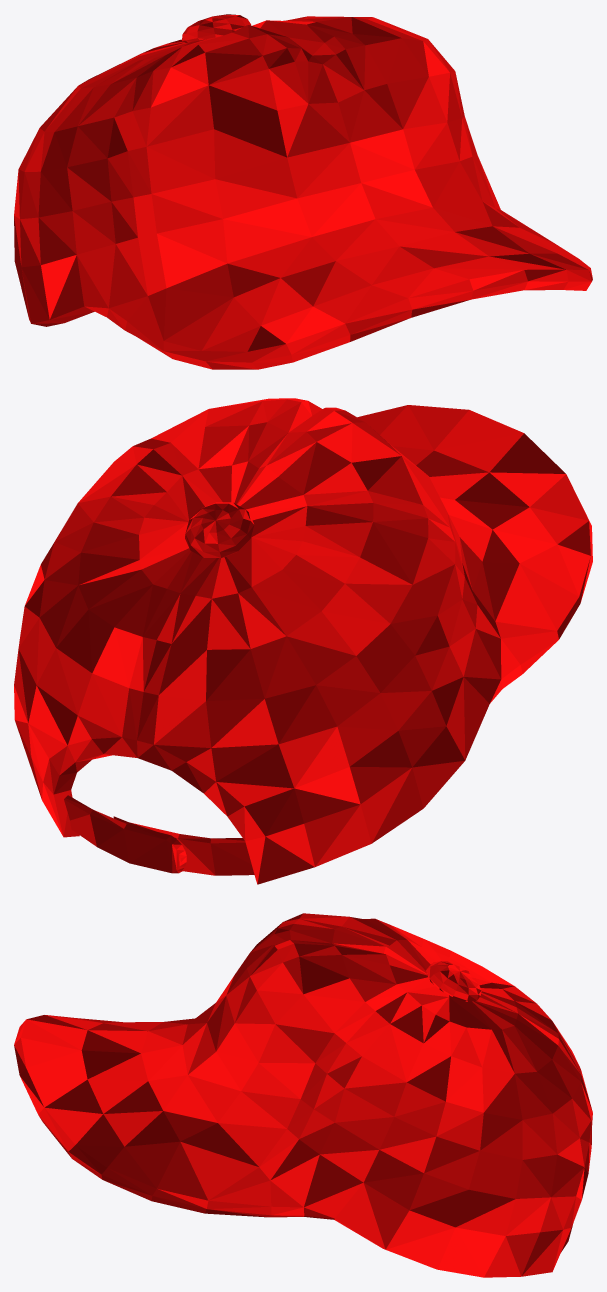
The model's file is Hed_CAP002.Nin_NX_NVN.fbx.
3 renders of one model, top to bottom at view 1: azimuth 30°, elevation 25°; view 2: azimuth 150°, elevation 25°; view 3: azimuth 270°, elevation 25°, orthographic. The views are drawn at different scales.
Visible parts, largest first — view 1: Hed_CAP002__M_CAP002; view 2: Hed_CAP002__M_CAP002; view 3: Hed_CAP002__M_CAP002.
Part boxes in pixels (x1,y1,x2,y2): Hed_CAP002__M_CAP002: (14, 14, 592, 369); Hed_CAP002__M_CAP002: (14, 398, 592, 884); Hed_CAP002__M_CAP002: (14, 913, 592, 1277).
Bounding box in the file's own units: 5.01 × 4.01 × 7.02.
